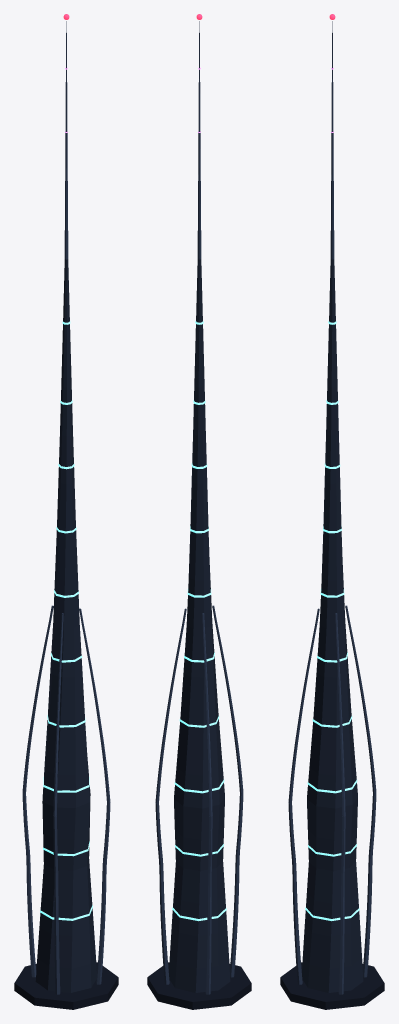
The model's file is torre-aguja-futurista.glb.
3 views of the same model, side by side, from view 1: azimuth 30°, elevation 25°; view 2: azimuth 150°, elevation 25°; view 3: azimuth 330°, elevation 25° (orthographic).
Visible parts, largest first — view 1: Torre_Aguja_Futurista_CascoAzul, Torre_Aguja_Futurista_NervioAcero, Torre_Aguja_Futurista_BaseOscura, Torre_Aguja_Futurista_LuzAnillo; view 2: Torre_Aguja_Futurista_CascoAzul, Torre_Aguja_Futurista_NervioAcero, Torre_Aguja_Futurista_BaseOscura, Torre_Aguja_Futurista_LuzAnillo; view 3: Torre_Aguja_Futurista_CascoAzul, Torre_Aguja_Futurista_NervioAcero, Torre_Aguja_Futurista_BaseOscura, Torre_Aguja_Futurista_LuzAnillo.
Boxes of the visible parts, box(x1,y1,x2,y2) form: Torre_Aguja_Futurista_CascoAzul: box(35, 259, 96, 992); Torre_Aguja_Futurista_NervioAcero: box(22, 21, 110, 994); Torre_Aguja_Futurista_BaseOscura: box(14, 962, 118, 1009); Torre_Aguja_Futurista_LuzAnillo: box(40, 321, 92, 920); Torre_Aguja_Futurista_CascoAzul: box(169, 258, 230, 992); Torre_Aguja_Futurista_NervioAcero: box(155, 21, 243, 994); Torre_Aguja_Futurista_BaseOscura: box(147, 962, 251, 1009); Torre_Aguja_Futurista_LuzAnillo: box(172, 321, 226, 921); Torre_Aguja_Futurista_CascoAzul: box(302, 258, 363, 992); Torre_Aguja_Futurista_NervioAcero: box(288, 21, 376, 994); Torre_Aguja_Futurista_BaseOscura: box(280, 962, 384, 1009); Torre_Aguja_Futurista_LuzAnillo: box(305, 321, 359, 921).
Size of the model in its own units: 11.09 by 123 by 11.09.
